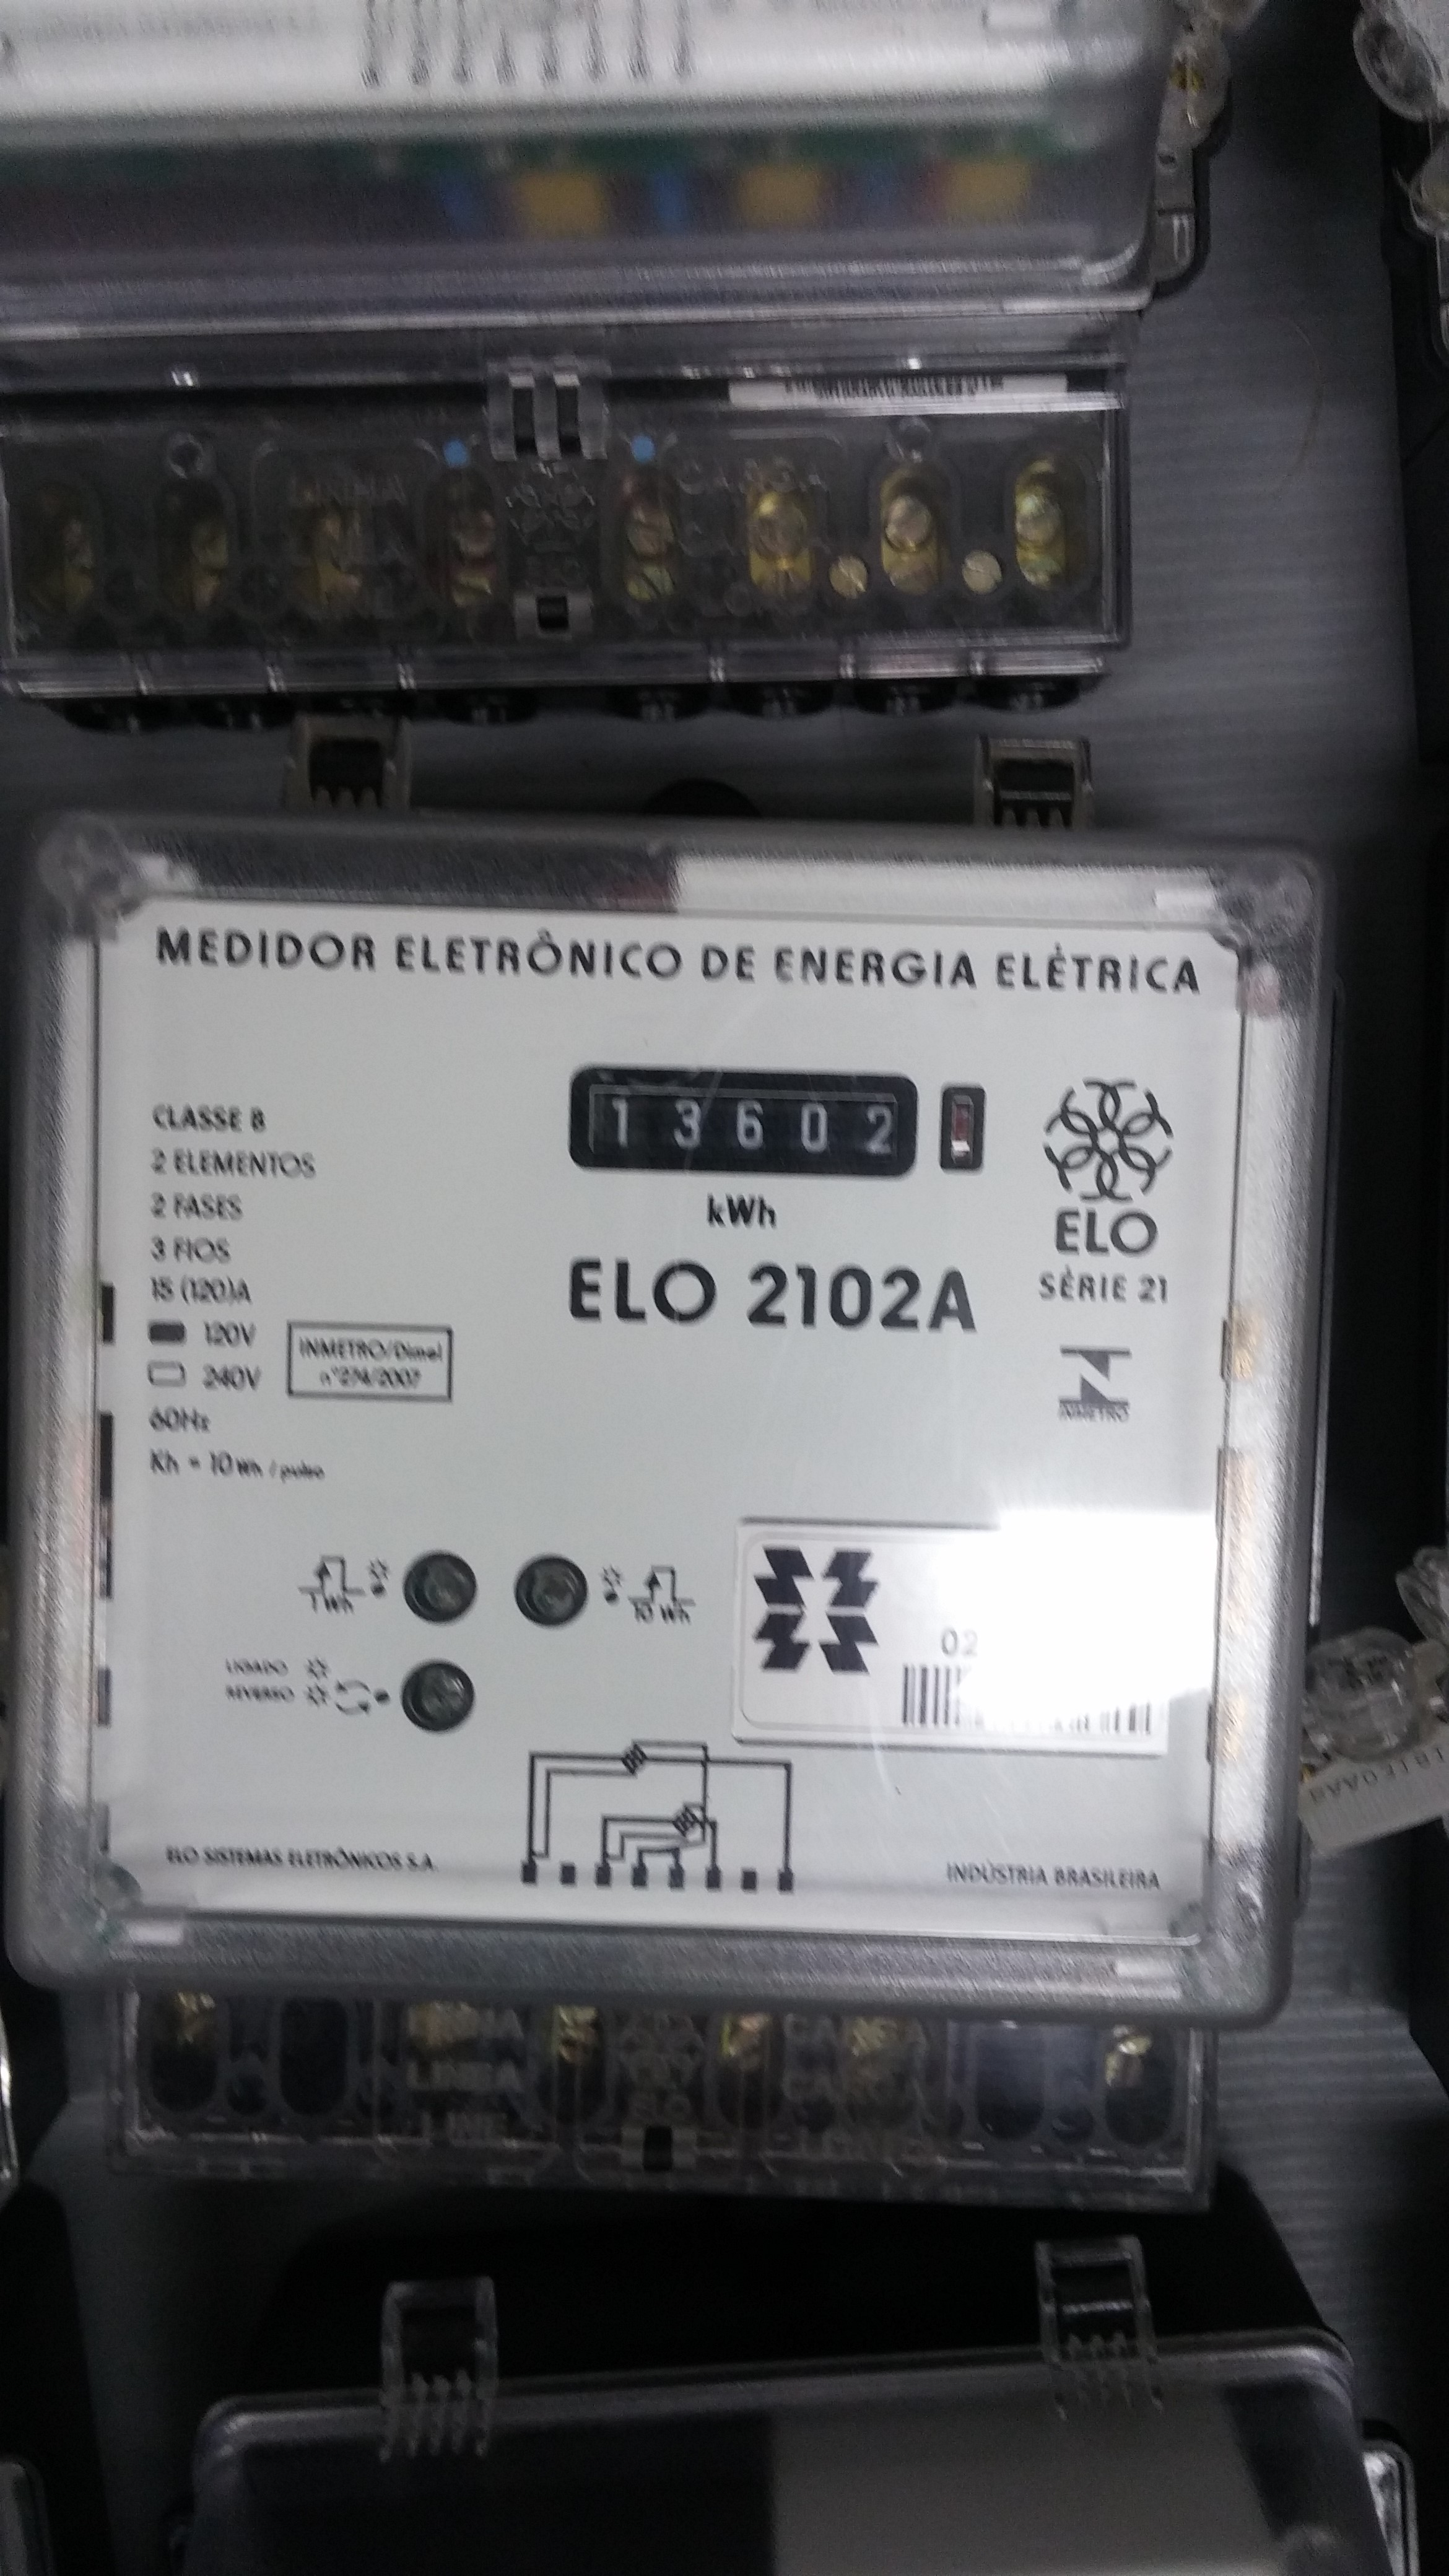counter2: (577, 1062, 925, 1187)
